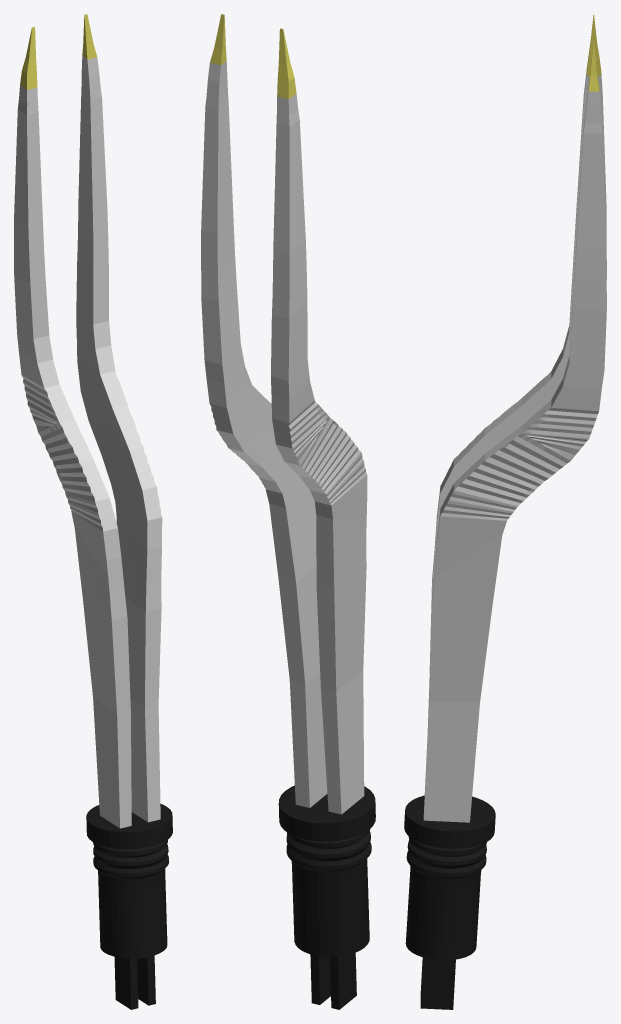
Rendered from Pincett diatermi bipolär guld 20-1411 EAU.fbx.
3 renders of one model, left to right at view 1: azimuth 30°, elevation 25°; view 2: azimuth 150°, elevation 25°; view 3: azimuth 270°, elevation 25°, orthographic. The views are drawn at different scales.
Visible parts, largest first — view 1: Cube, Cube.002, Cube.001, Cube.006, Cube.005; view 2: Cube, Cube.002, Cube.001, Cube.006, Cube.005; view 3: Cube.002, Cube.001, Cube, Cube.005.
Part boxes in pixels (x1,y1,x2,y2): Cube: (14,84,131,828); Cube.002: (76,69,162,822); Cube.001: (86,803,172,1009); Cube.006: (20,27,37,88); Cube.005: (82,14,98,73); Cube: (271,92,367,814); Cube.002: (201,76,327,807); Cube.001: (278,785,375,1009); Cube.006: (277,28,296,97); Cube.005: (208,14,227,80); Cube.002: (423,101,606,822); Cube.001: (404,795,495,1009); Cube: (427,70,606,728); Cube.005: (586,41,600,106).
Size of the model in its own units: 328 by 3682 by 694.
